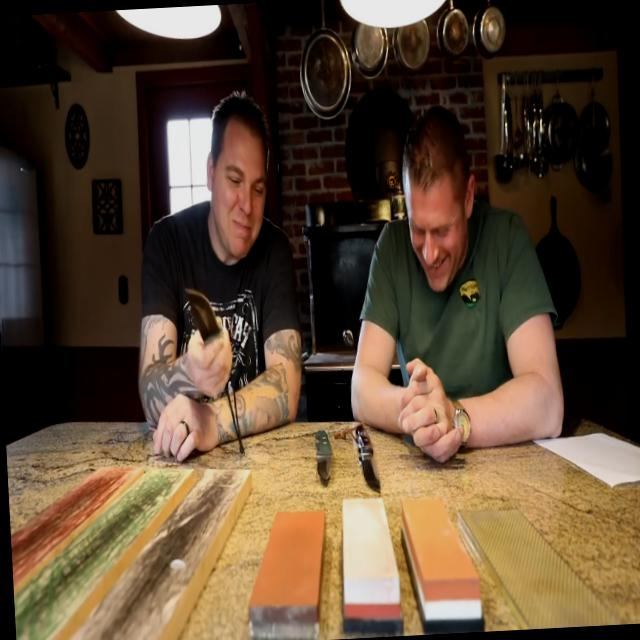knife: (178, 264, 236, 374)
